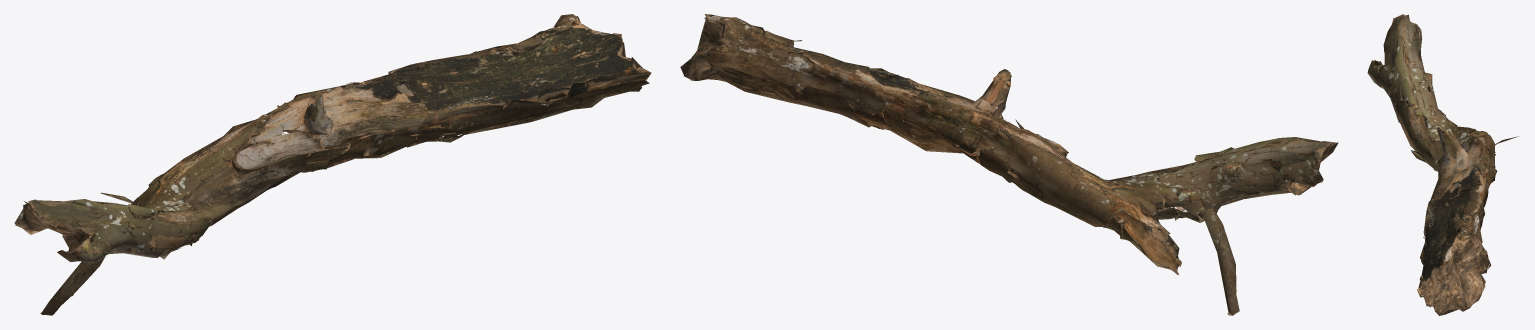
Rendered from dead_tree_b.glb.
3 views of the same model, side by side, from view 1: azimuth 30°, elevation 25°; view 2: azimuth 150°, elevation 25°; view 3: azimuth 270°, elevation 25° (orthographic). The views are drawn at different scales.
Visible parts, largest first — view 1: dead_tree_trunk_02; view 2: dead_tree_trunk_02; view 3: dead_tree_trunk_02.
Part boxes in pixels (box(x1,y1,x2,y2)): dead_tree_trunk_02: box(14, 14, 651, 315); dead_tree_trunk_02: box(680, 14, 1338, 315); dead_tree_trunk_02: box(1367, 14, 1518, 315).
Bounding box in the file's own units: 4.05 × 1.06 × 1.03.
Materials: 1 (1 with a texture image).
